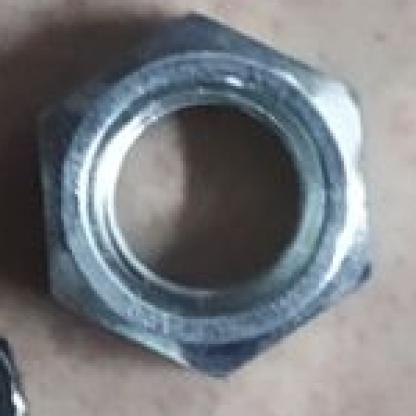FOD: (27, 19, 386, 394)
